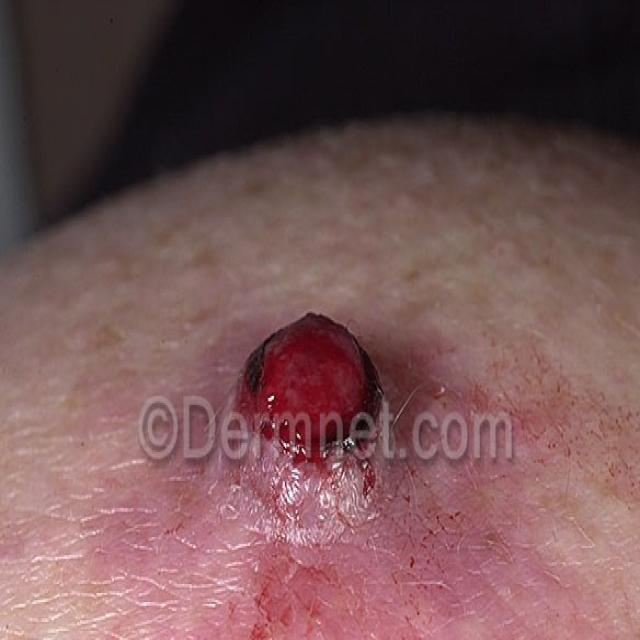Vascular Tumors: (232, 308, 393, 543)
